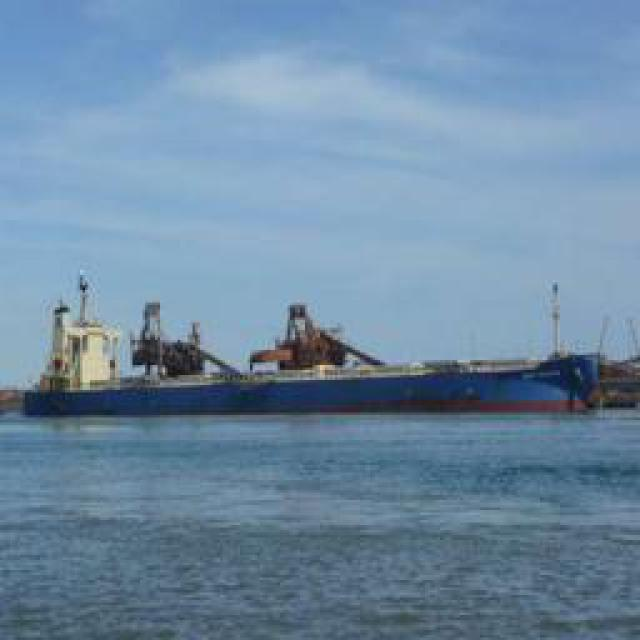Ship: (17, 283, 610, 421)
